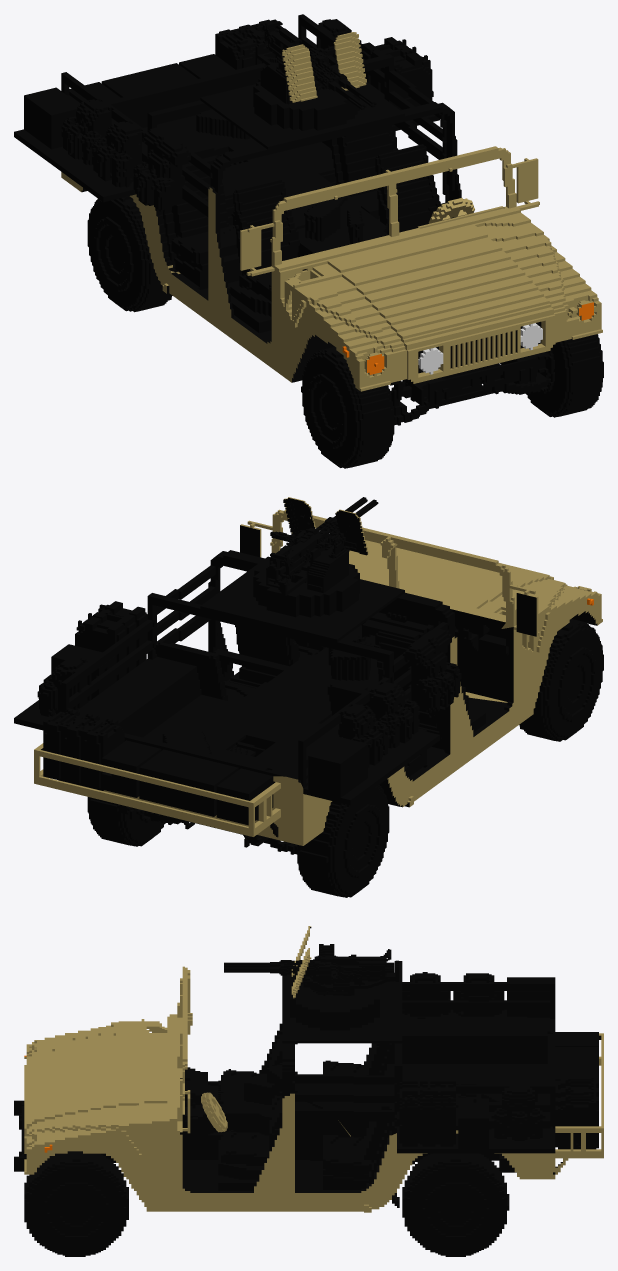
File: Humvee.fbx
3 views of the same model, one above another, from view 1: azimuth 30°, elevation 25°; view 2: azimuth 150°, elevation 25°; view 3: azimuth 270°, elevation 25° (orthographic). The views are drawn at different scales.
Visible parts, largest first — view 1: Base, FRWheel, RRWheel, Turret, FLWheel, TurretBase, Torus; view 2: Base, RRWheel, Turret, FRWheel, TurretBase, RLWheel; view 3: Base, RLWheel, FLWheel, Turret, TurretBase, Torus.
Part boxes in pixels (bbox=[...]): Base: bbox=[14, 14, 602, 425]; FRWheel: bbox=[301, 346, 394, 468]; RRWheel: bbox=[87, 196, 172, 312]; Turret: bbox=[255, 21, 376, 109]; FLWheel: bbox=[525, 334, 603, 417]; TurretBase: bbox=[253, 74, 359, 130]; Torus: bbox=[428, 198, 474, 223]; Base: bbox=[14, 509, 602, 854]; RRWheel: bbox=[297, 785, 389, 897]; Turret: bbox=[266, 497, 378, 595]; FRWheel: bbox=[519, 619, 603, 741]; TurretBase: bbox=[253, 559, 359, 617]; RLWheel: bbox=[87, 797, 165, 846]; Base: bbox=[14, 954, 603, 1212]; RLWheel: bbox=[402, 1153, 509, 1256]; FLWheel: bbox=[24, 1151, 128, 1256]; Turret: bbox=[224, 926, 398, 998]; TurretBase: bbox=[290, 980, 379, 1030]; Torus: bbox=[201, 1092, 227, 1132].
Bounding box in the file's own units: 623 × 528 × 1066.
